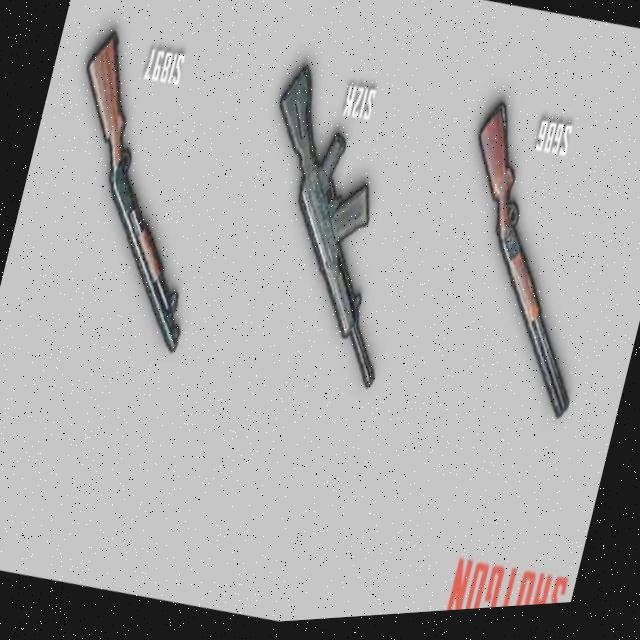firearm: (213, 57, 444, 403), (20, 19, 246, 365), (414, 99, 636, 436)
